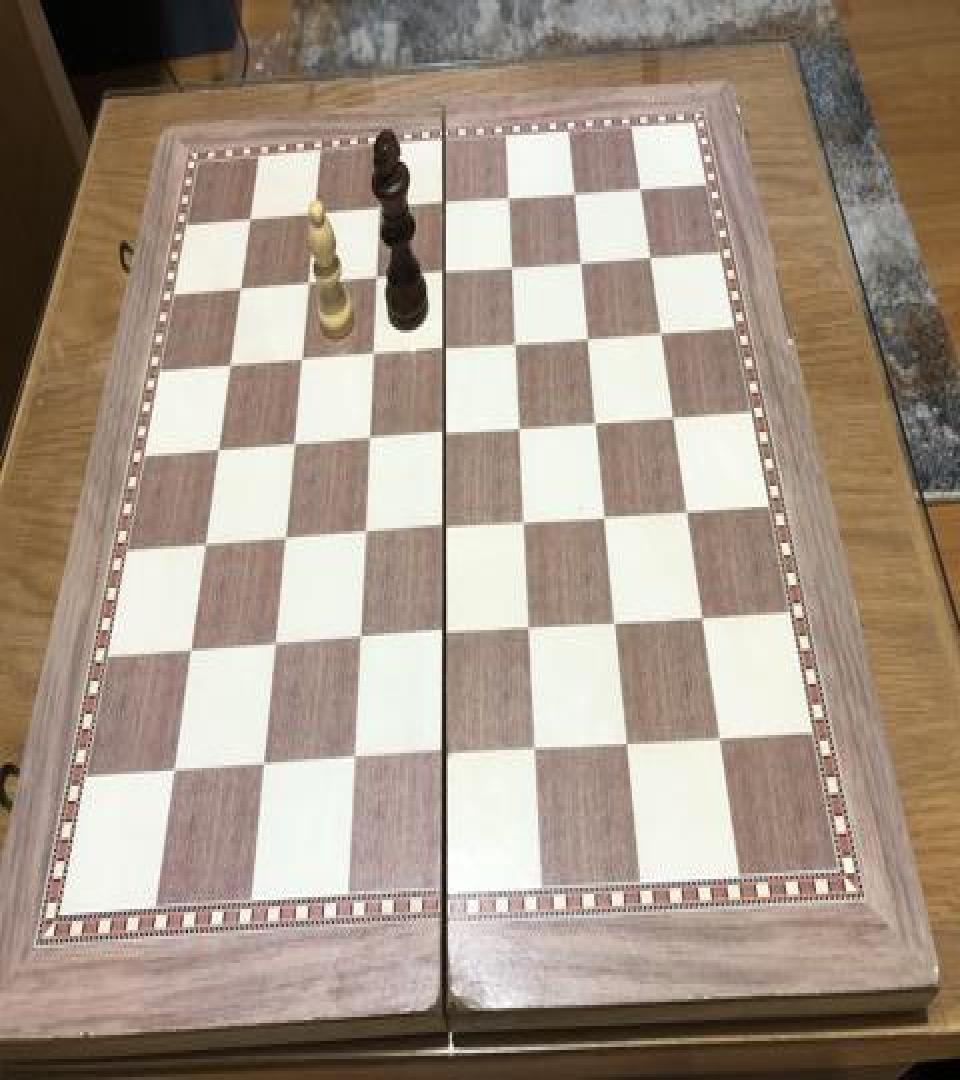xcorner: (689, 601, 713, 638), (346, 622, 370, 659), (613, 727, 637, 764), (340, 742, 364, 779), (563, 178, 587, 214), (497, 184, 521, 220), (432, 189, 456, 225), (368, 195, 392, 231), (303, 200, 327, 236), (639, 242, 663, 278), (569, 248, 593, 284), (500, 252, 524, 288), (432, 258, 456, 294), (364, 264, 388, 300), (297, 268, 321, 304), (230, 274, 254, 310), (649, 316, 673, 352), (576, 322, 600, 358), (432, 333, 456, 369), (360, 339, 384, 375), (289, 345, 313, 381), (219, 350, 243, 386), (661, 402, 685, 438), (584, 406, 608, 442), (431, 418, 455, 454), (356, 423, 380, 459), (281, 429, 305, 465), (207, 434, 231, 470), (674, 496, 698, 532), (592, 501, 616, 537), (511, 507, 535, 543), (431, 512, 455, 548), (351, 518, 375, 554), (272, 522, 296, 558), (194, 528, 218, 564), (602, 608, 626, 644), (516, 612, 540, 648), (431, 618, 455, 654), (262, 628, 286, 664), (179, 633, 203, 669), (706, 722, 730, 758), (521, 732, 545, 768), (430, 738, 454, 774), (251, 747, 275, 783), (162, 752, 186, 788), (629, 173, 653, 208), (239, 206, 263, 241), (504, 329, 528, 364), (507, 413, 531, 448)
